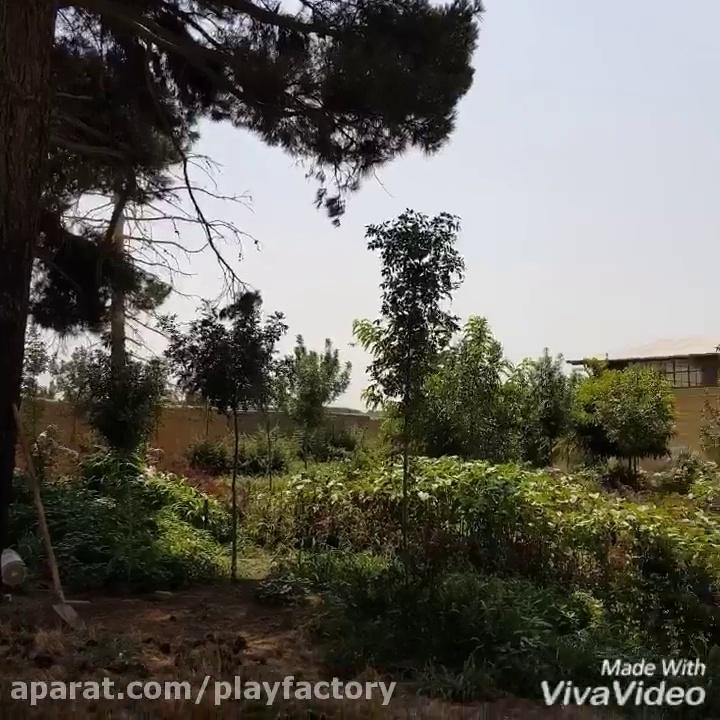drone: (344, 337, 357, 348)
